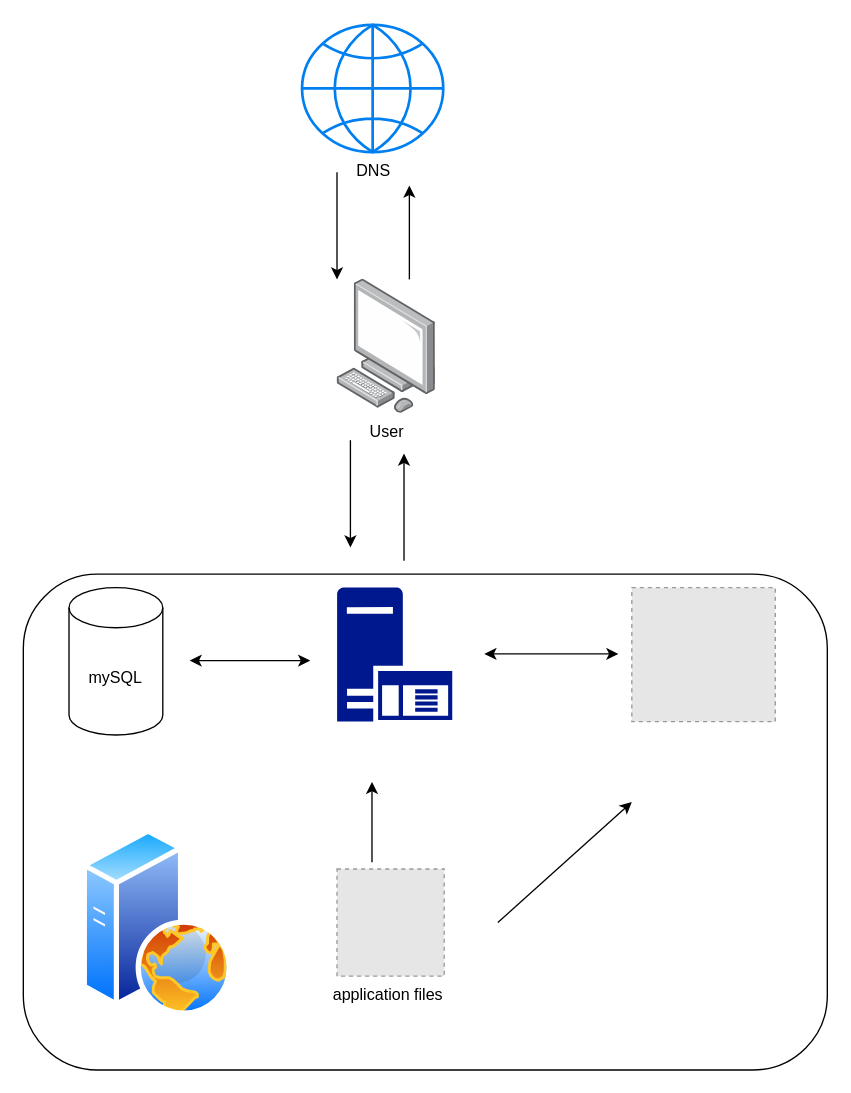
Some shapes in this 851 by 1093 pixel diagram are drawn without their labels. Grey dashed boxes stand in for pictures. Each missing label, with the centre of its shape:
Application server: pixel 394 654
web server: pixel 157 922
